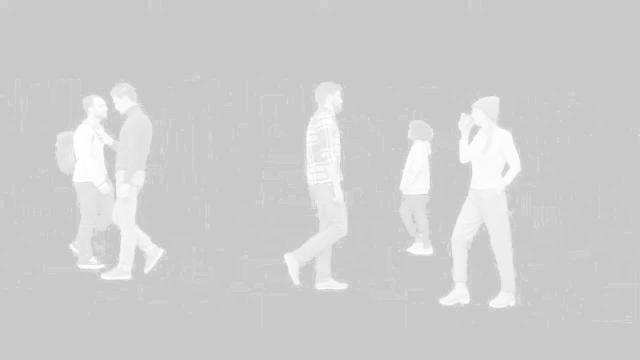berjalan: (436, 83, 528, 317), (278, 78, 352, 294), (97, 84, 161, 282), (54, 86, 106, 276), (390, 119, 442, 260)
